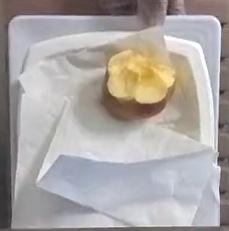fruit: (107, 49, 173, 103)
